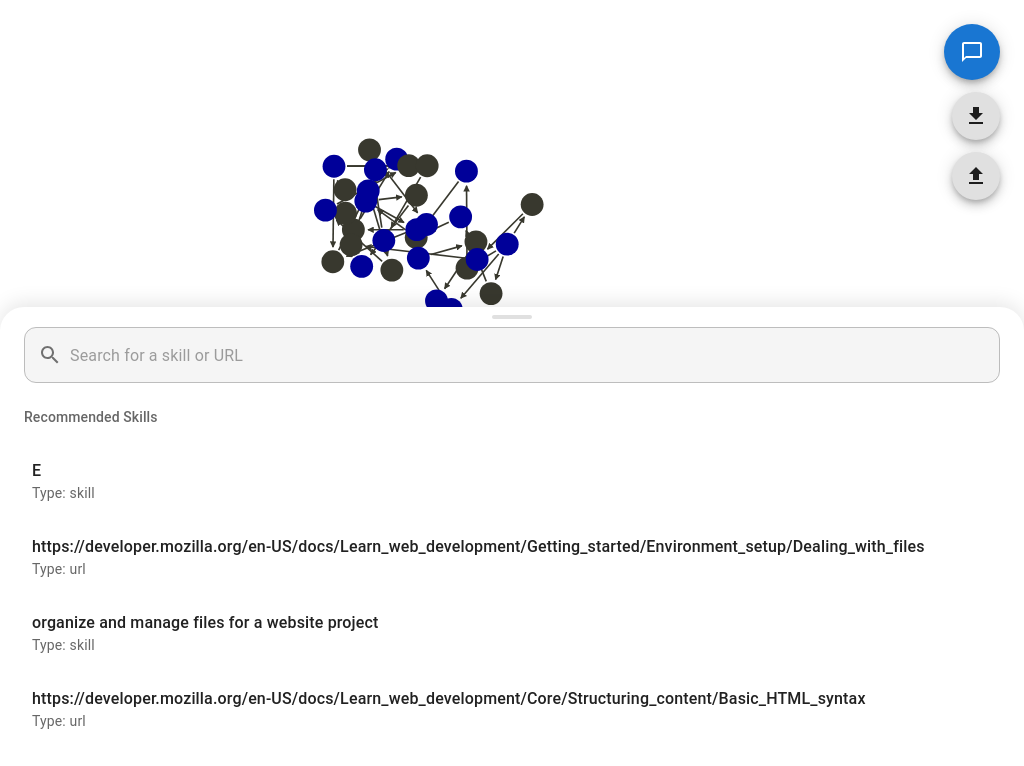
Test: Learning Path Display › displays path nodes in the text card after generating a path
Step 1. Click the field with placeholder "Search for a skill or URL" → (535, 355), box 70,327 -> 1000,383
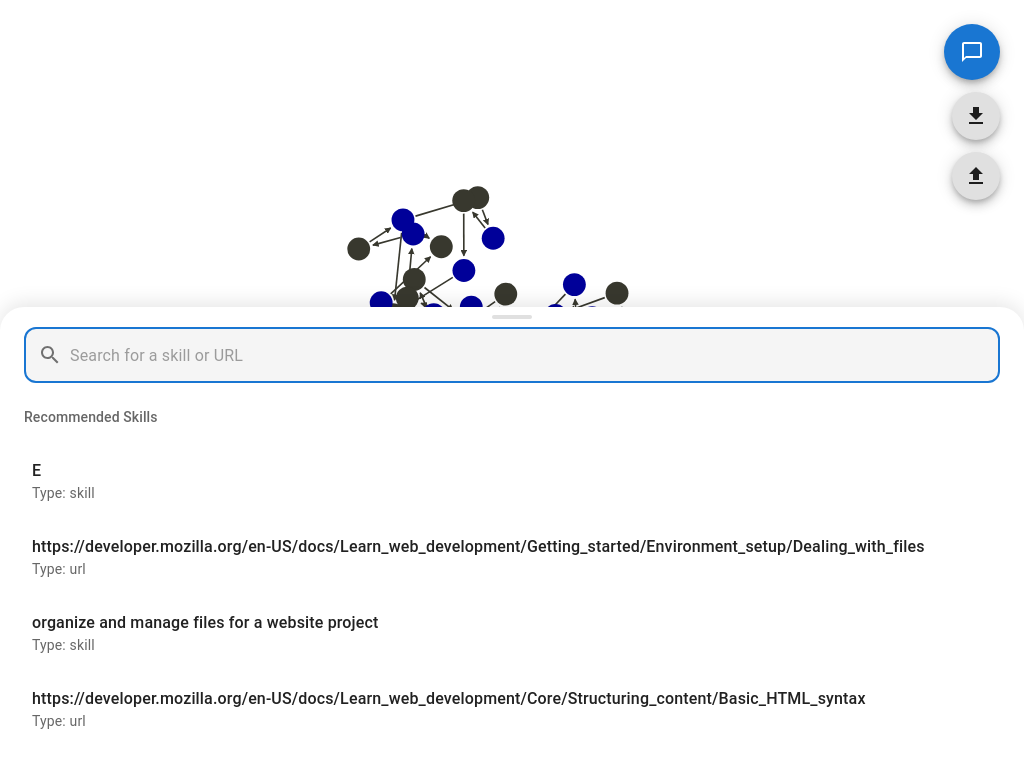
Step 2. Type keys "javascript"
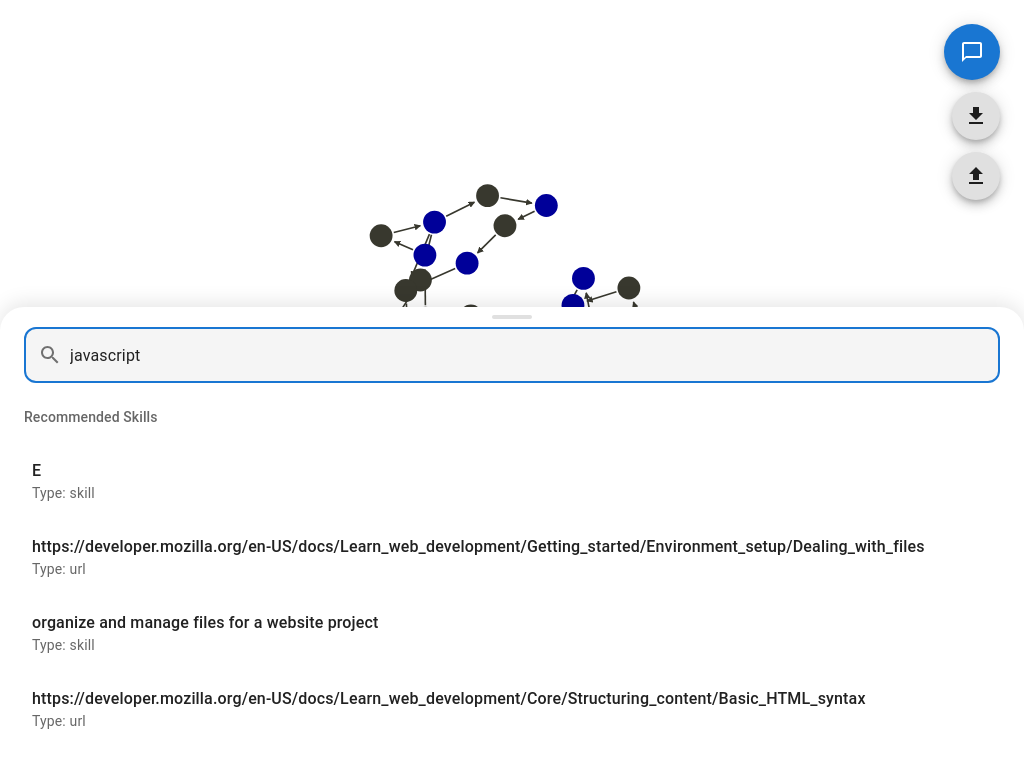
Step 3. Press Enter
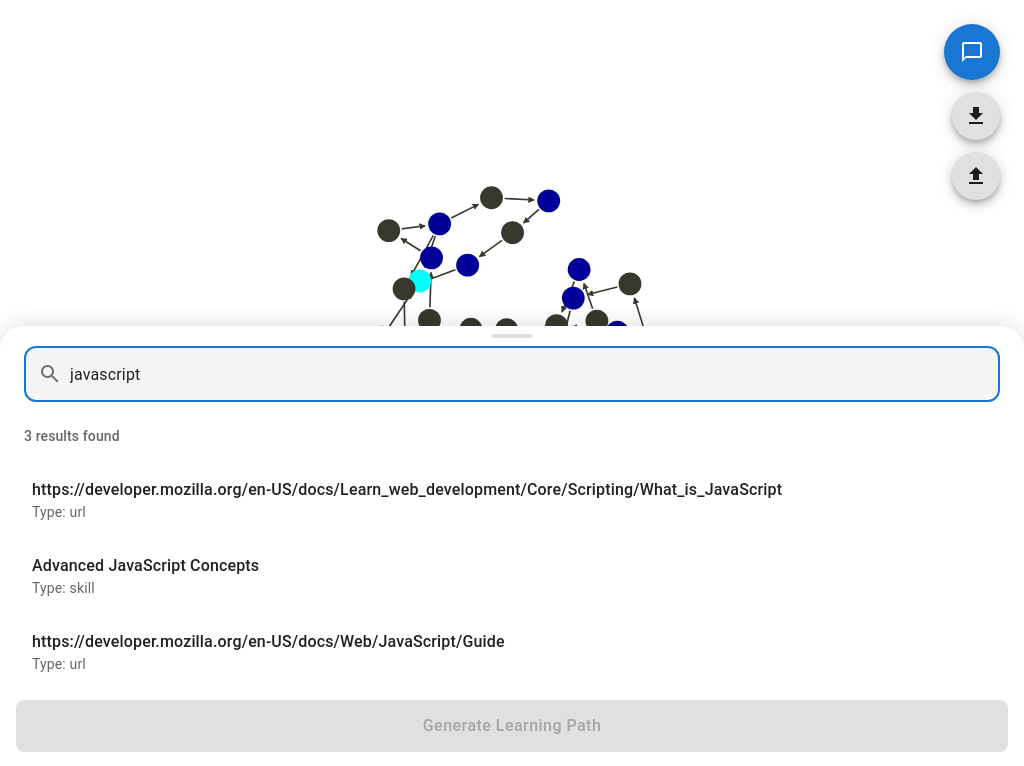
Step 4. Click the button named "javascript" → (407, 500), box 32,480 -> 782,520
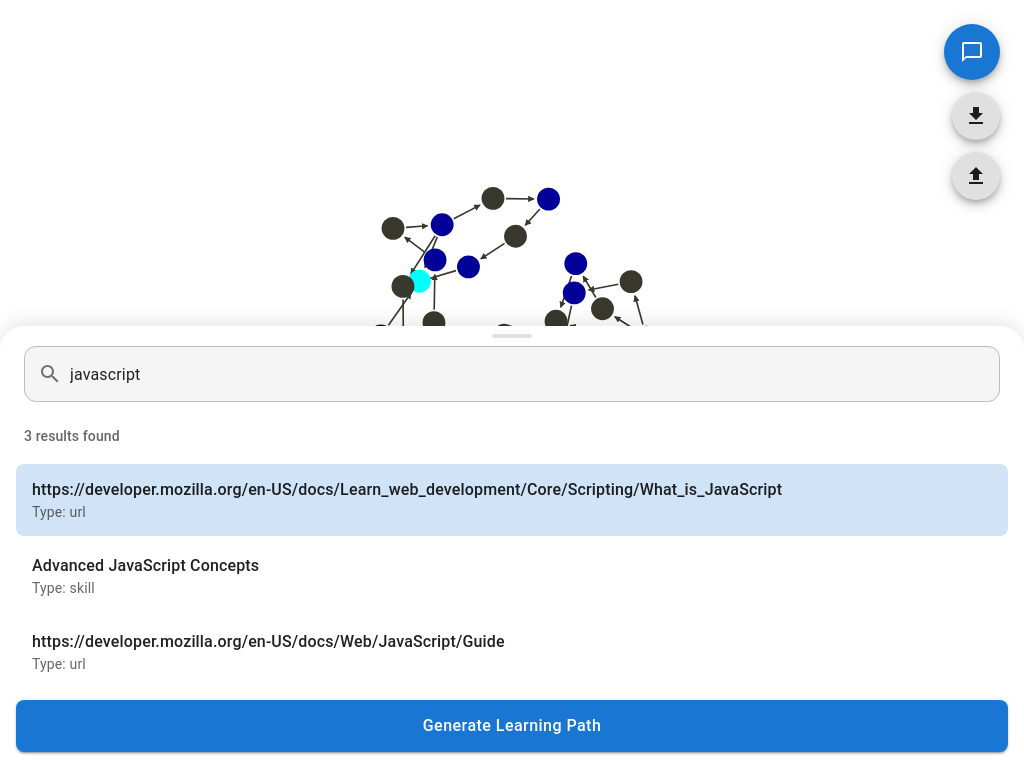
Step 5. Click the button "Generate Learning Path" → (512, 726), box 16,700 -> 1008,752
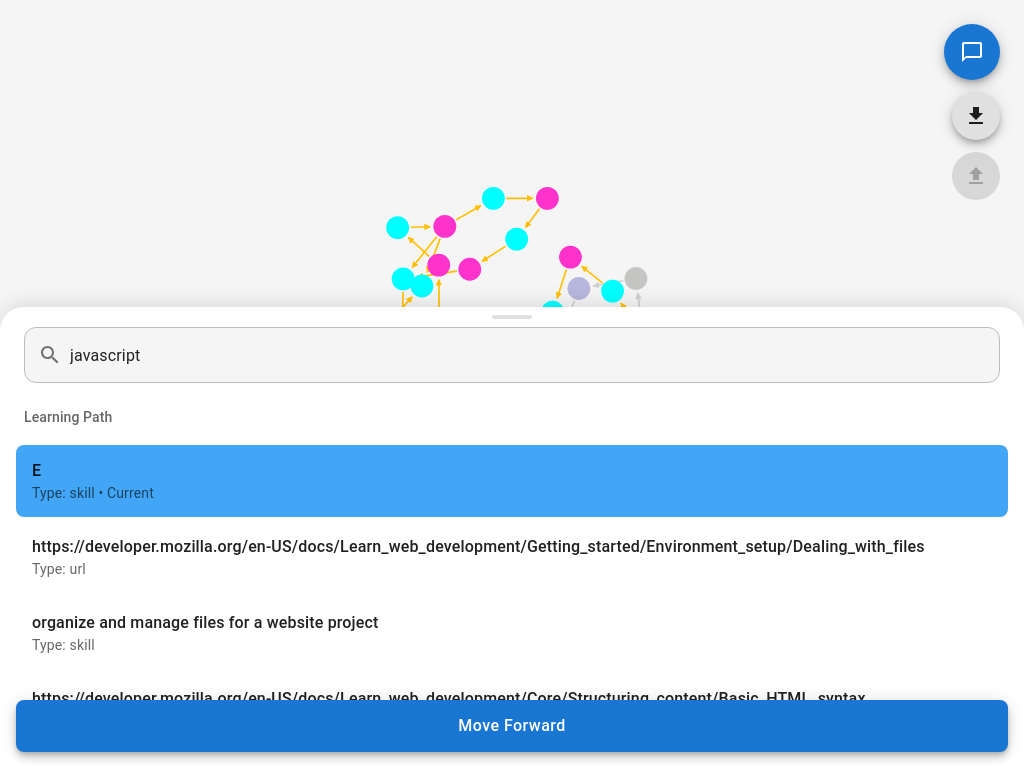
Now the heading "Learning Path" is shown, box 24,409 -> 112,425
